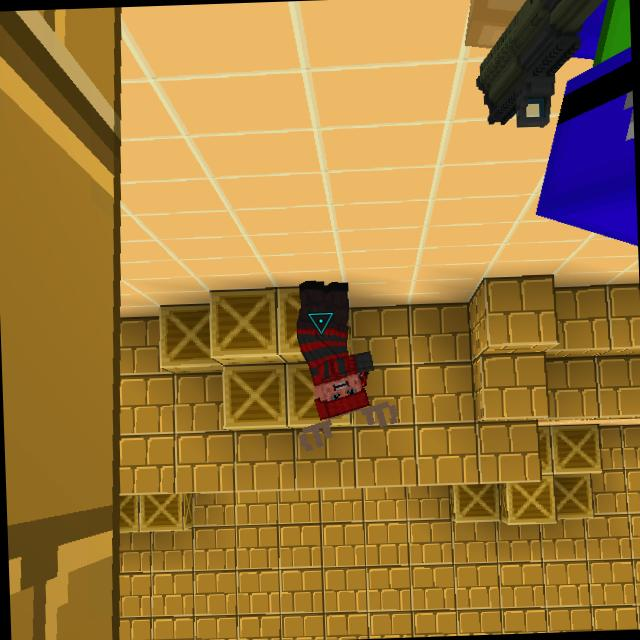enemy: (292, 274, 399, 458)
